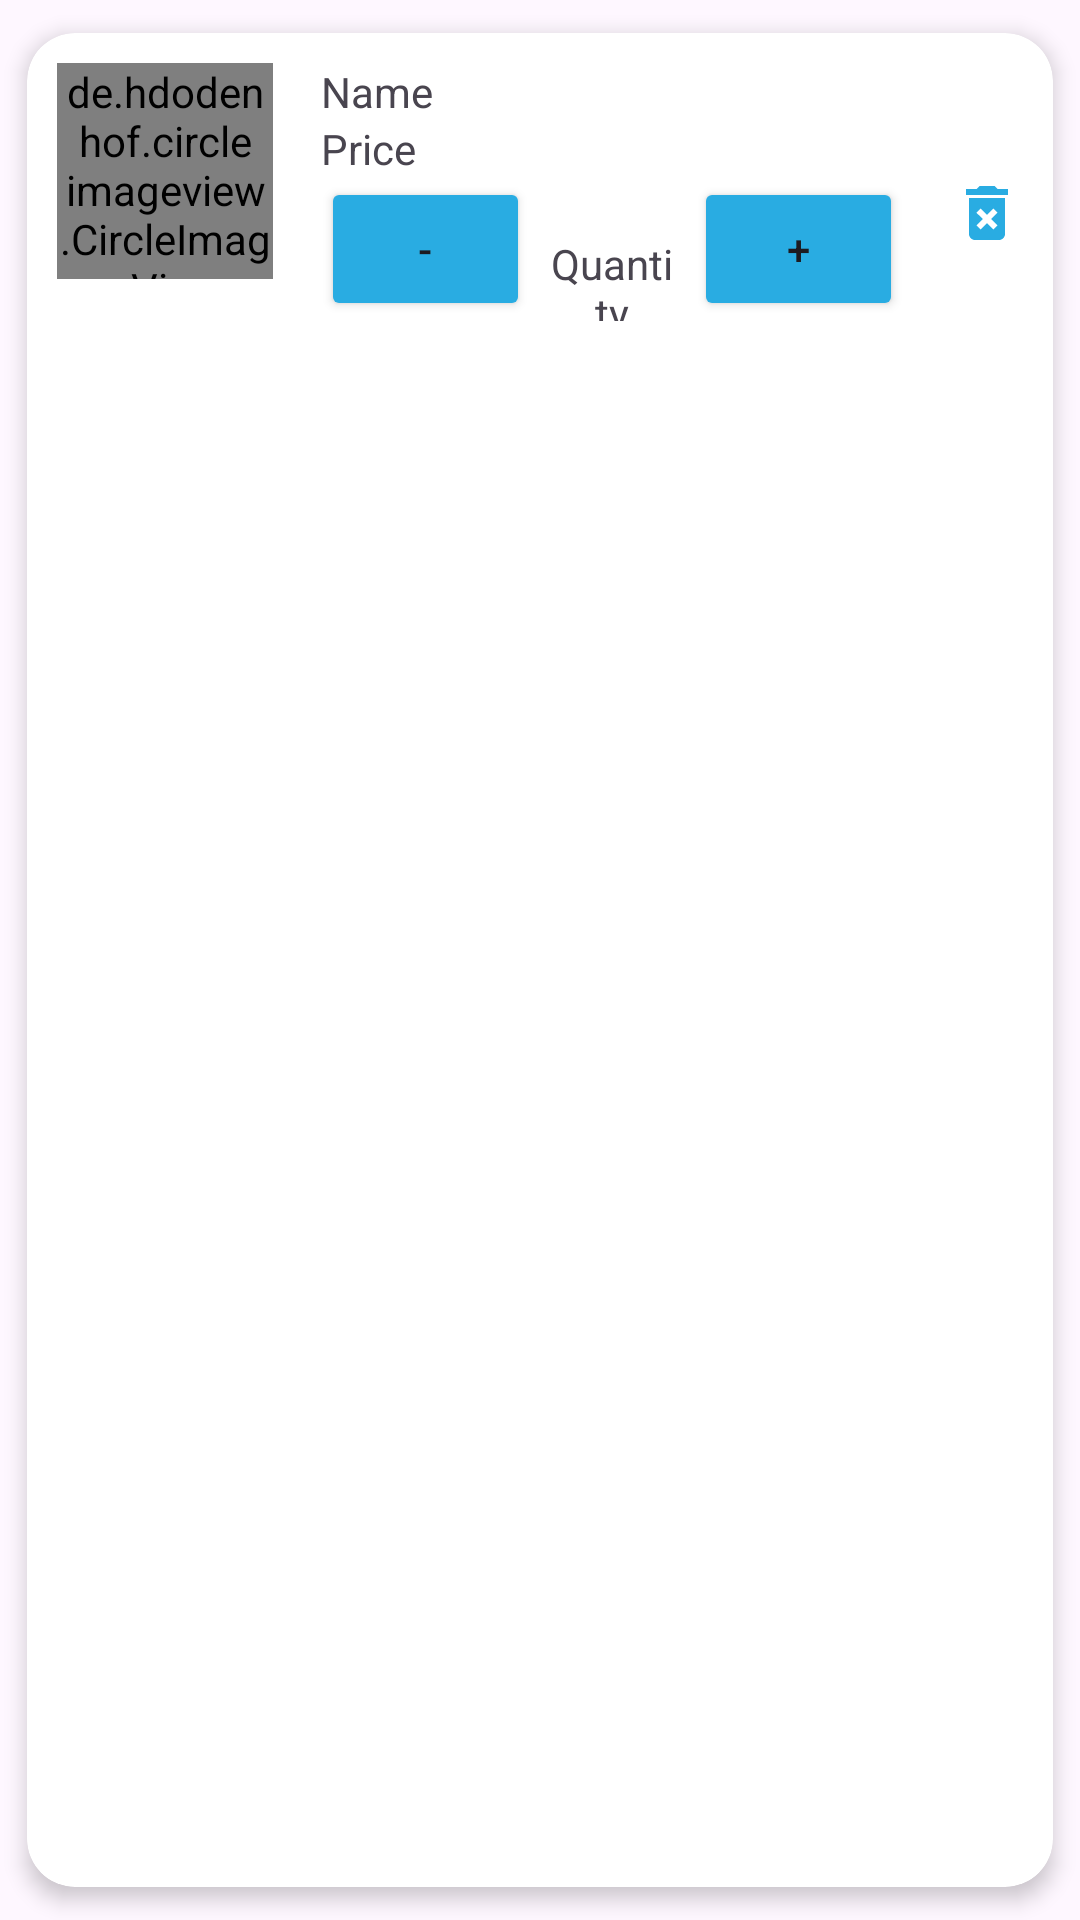

Point at icon controls on the screen. Image size 1080px x 1920px, points as (x=x, y=y).
delete: (x=987, y=213)
